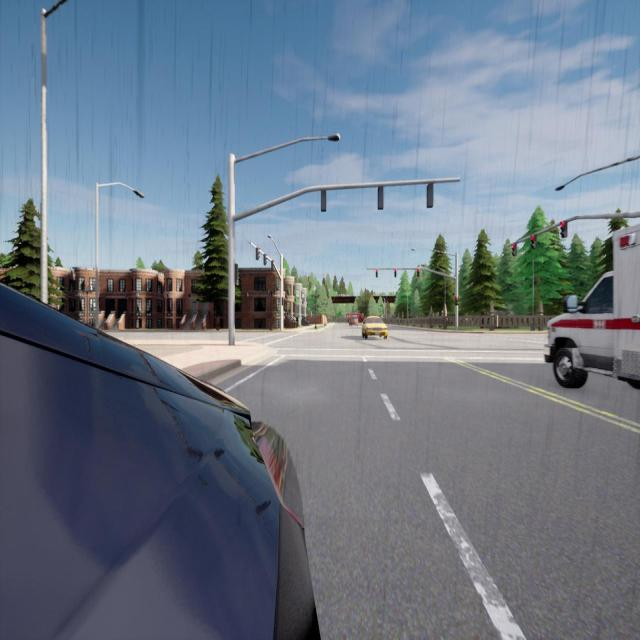Vehicle: (0, 285, 317, 640), (543, 223, 640, 388), (362, 315, 388, 340), (346, 313, 364, 323), (348, 315, 358, 327)
traffic_light: (426, 183, 434, 208), (560, 220, 568, 238), (378, 186, 383, 210), (321, 190, 326, 212), (530, 234, 537, 249), (235, 264, 239, 286), (511, 243, 517, 256), (256, 248, 260, 260), (271, 260, 275, 272), (264, 254, 267, 265), (394, 268, 397, 278), (417, 268, 420, 277), (455, 296, 458, 305), (376, 268, 378, 278), (282, 297, 284, 305)
